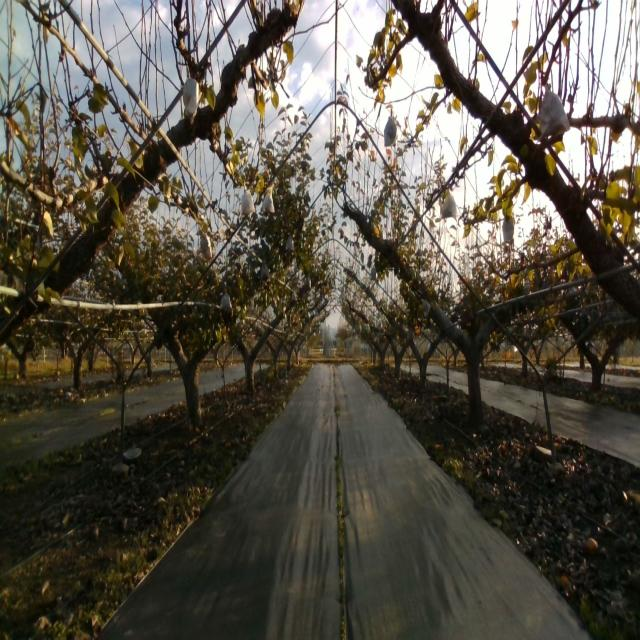pearbags: (538, 83, 570, 142), (183, 65, 199, 125), (440, 189, 457, 222), (384, 107, 397, 147), (502, 212, 515, 245), (240, 187, 255, 214), (198, 231, 212, 259), (219, 288, 232, 312), (262, 192, 275, 214)
